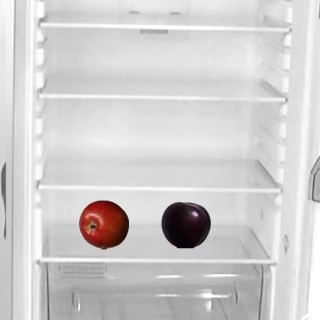Apple Braeburn: (78, 199, 128, 249)
Cherry Wax Black: (160, 199, 210, 249)
